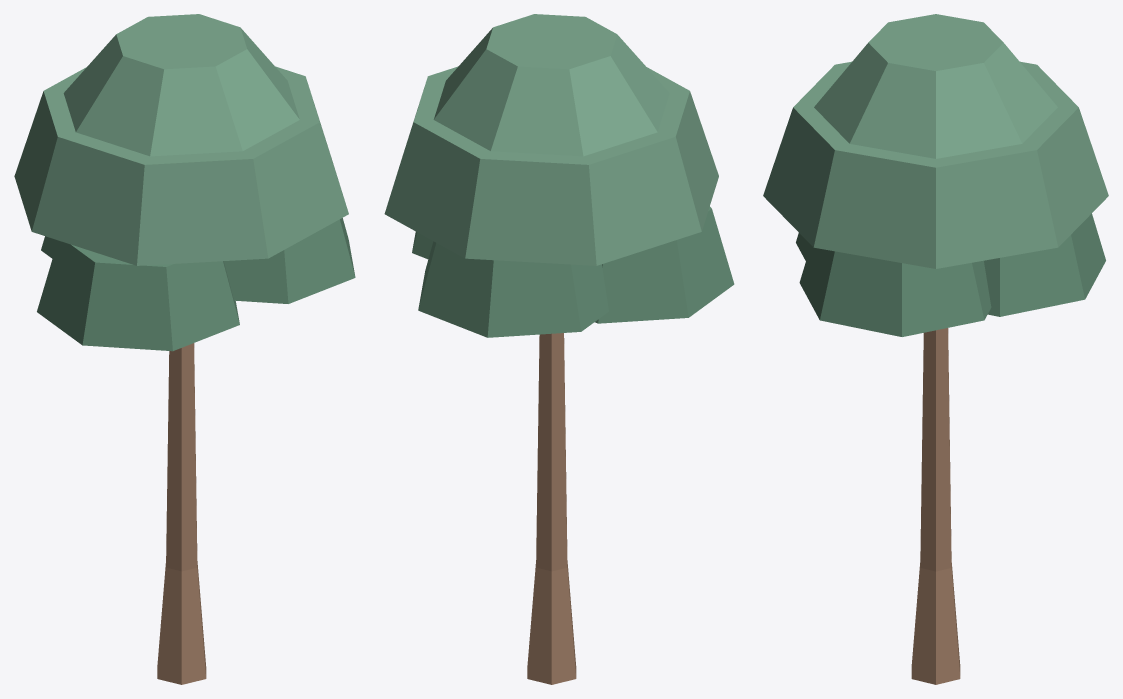
The model's file is flora_11_pinus_krempfii_flat_needle_pine.glb.
The picture shows the model from 3 angles, left to right: view 1: azimuth 30°, elevation 25°; view 2: azimuth 150°, elevation 25°; view 3: azimuth 270°, elevation 25°; orthographic projection.
Parts seen in each view (by area): view 1: flora_11_pinus_krempfii_flat_needle_pine; view 2: flora_11_pinus_krempfii_flat_needle_pine; view 3: flora_11_pinus_krempfii_flat_needle_pine.
Boxes of the visible parts, left/top/right/bottom form: flora_11_pinus_krempfii_flat_needle_pine: left=14, top=14, right=355, bottom=684; flora_11_pinus_krempfii_flat_needle_pine: left=384, top=14, right=734, bottom=684; flora_11_pinus_krempfii_flat_needle_pine: left=763, top=14, right=1108, bottom=684.
Bounding box in the file's own units: 9.2 × 18.5 × 9.2.
